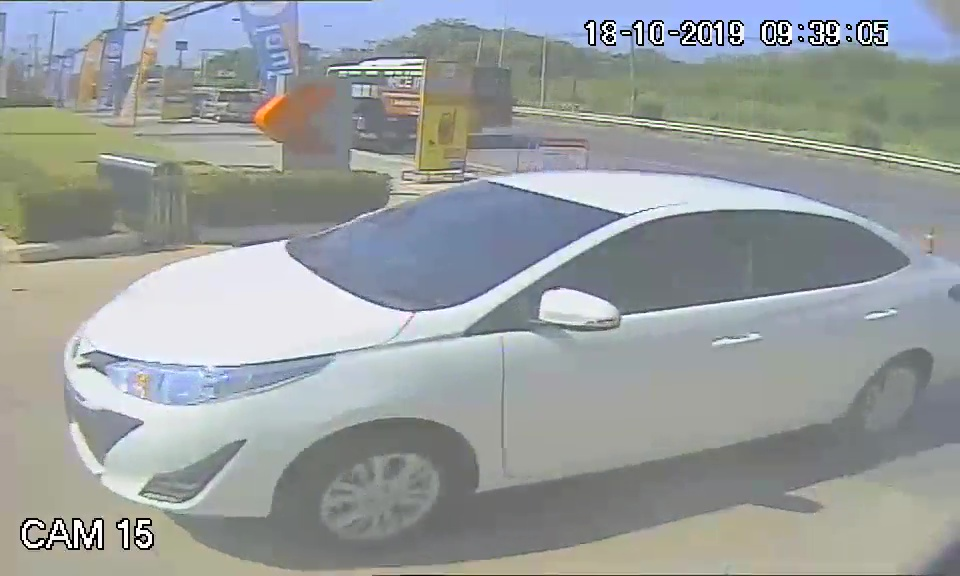sedan: (58, 166, 936, 521)
